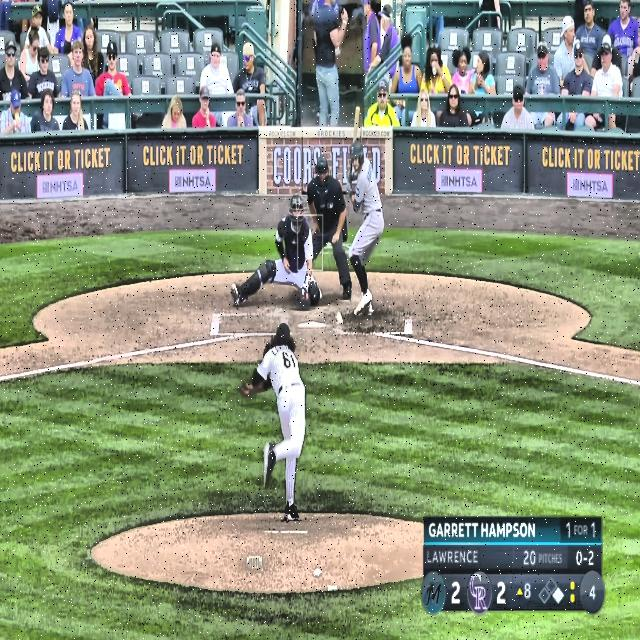baseball: (336, 311, 343, 326)
